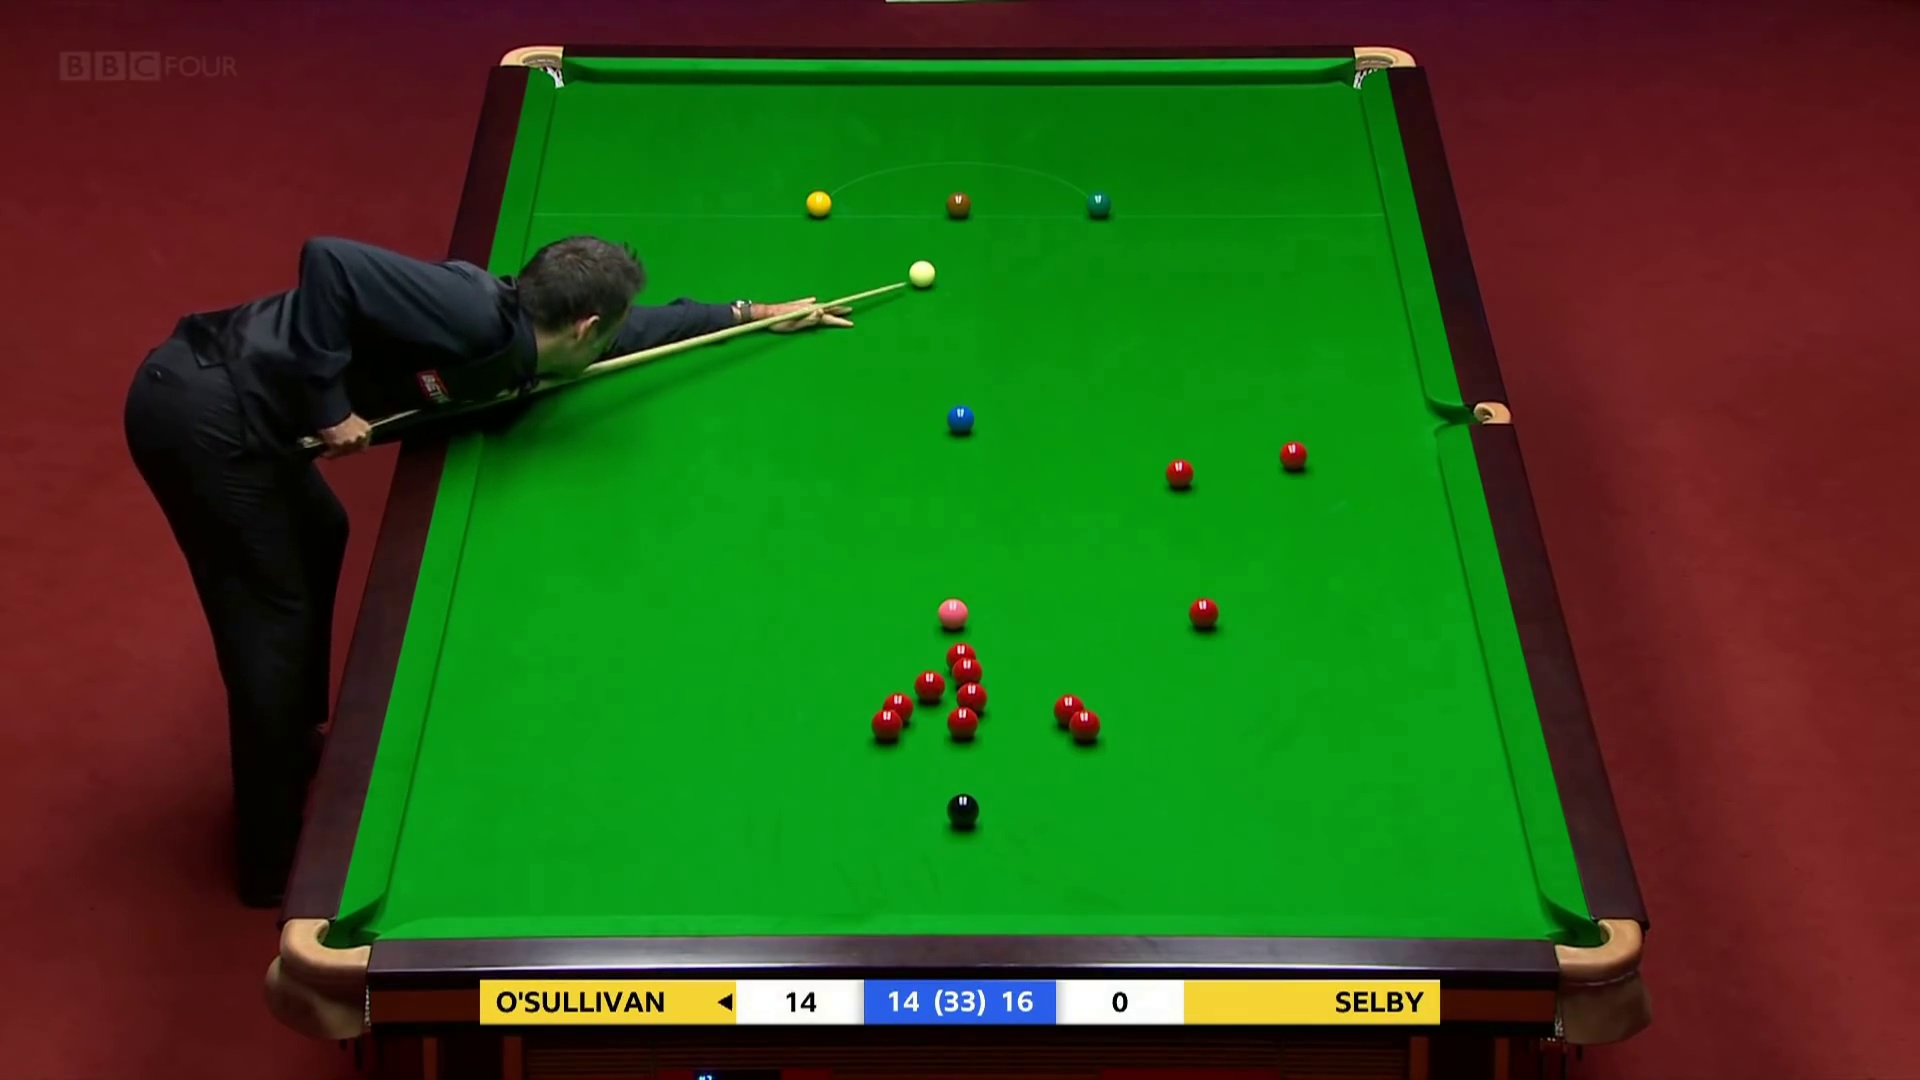black: (947, 793, 984, 837)
blue: (943, 404, 977, 444)
brown: (945, 186, 978, 224)
green: (1079, 191, 1114, 227)
pink: (938, 599, 975, 637)
red: (1183, 589, 1225, 638), (1276, 434, 1313, 480), (1067, 707, 1106, 748), (880, 690, 916, 731), (949, 657, 989, 694), (951, 682, 992, 717), (1160, 455, 1199, 492), (868, 708, 903, 748), (945, 707, 980, 746), (1051, 691, 1084, 732), (914, 669, 947, 707), (945, 644, 982, 675)
white: (905, 257, 940, 294)
yellow: (800, 189, 837, 224)
